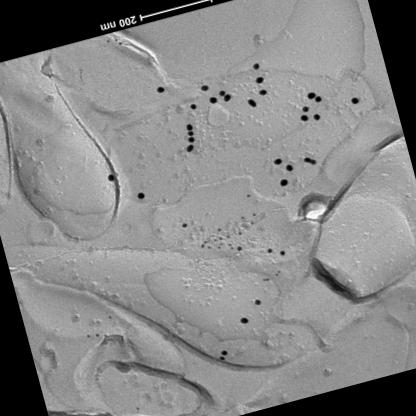6 nm Particle: (238, 213, 245, 220), (216, 226, 223, 233), (200, 242, 206, 248), (226, 240, 232, 246), (216, 244, 222, 250), (251, 212, 257, 217), (249, 219, 255, 224), (212, 237, 218, 242), (236, 230, 242, 235), (218, 235, 223, 240), (226, 233, 231, 238), (229, 245, 234, 250), (276, 268, 280, 274), (262, 276, 266, 282), (206, 244, 211, 248), (274, 272, 279, 276), (265, 276, 270, 280), (203, 238, 207, 242), (219, 242, 223, 245)
